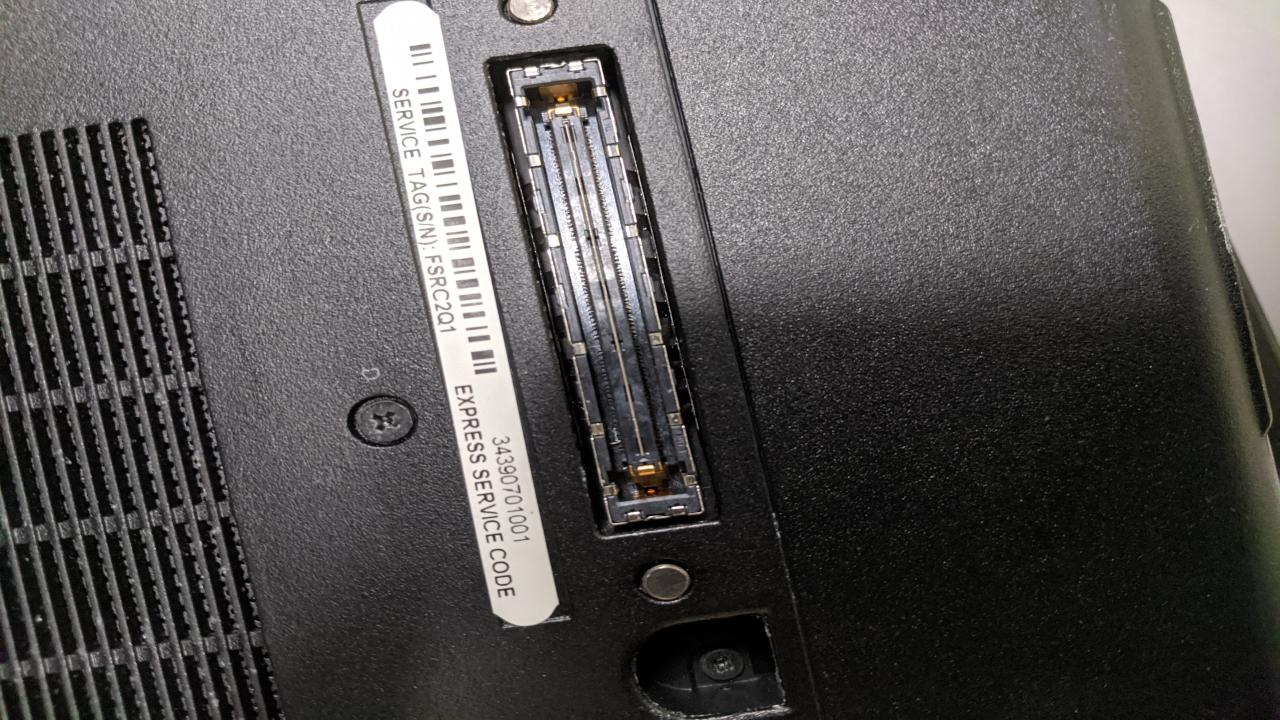CRS: (347, 395, 421, 448), (701, 648, 745, 680)
